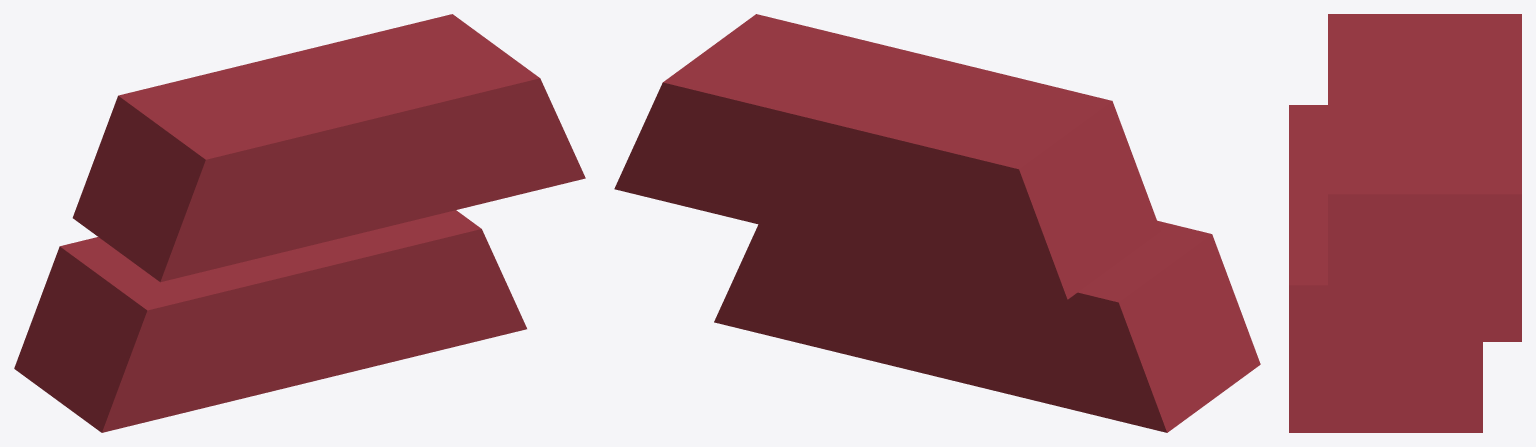
Rendered from crimtane_bar.glb.
3 renders of one model, left to right at view 1: azimuth 30°, elevation 25°; view 2: azimuth 150°, elevation 25°; view 3: azimuth 270°, elevation 25°, orthographic. The views are drawn at different scales.
Visible parts, largest first — view 1: sanguite_bar_v0; view 2: sanguite_bar_v0; view 3: sanguite_bar_v0.
Boxes of the visible parts, bbox=[...] form: sanguite_bar_v0: bbox=[14, 14, 585, 432]; sanguite_bar_v0: bbox=[614, 14, 1260, 432]; sanguite_bar_v0: bbox=[1289, 14, 1521, 432].
Bounding box in the file's own units: 0.33 × 0.145 × 0.12.
